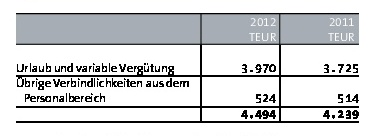table: (0, 0, 379, 136)
